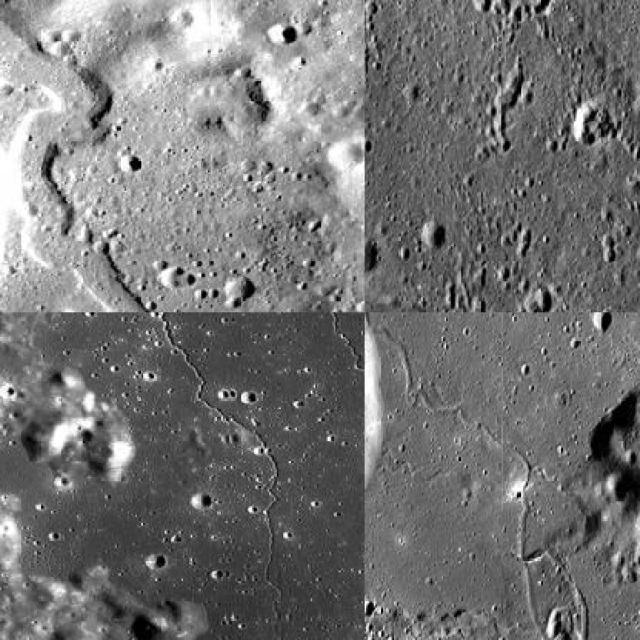rille: (0, 312, 285, 594), (365, 312, 580, 638), (11, 54, 195, 311), (364, 209, 562, 311), (523, 544, 591, 638)
